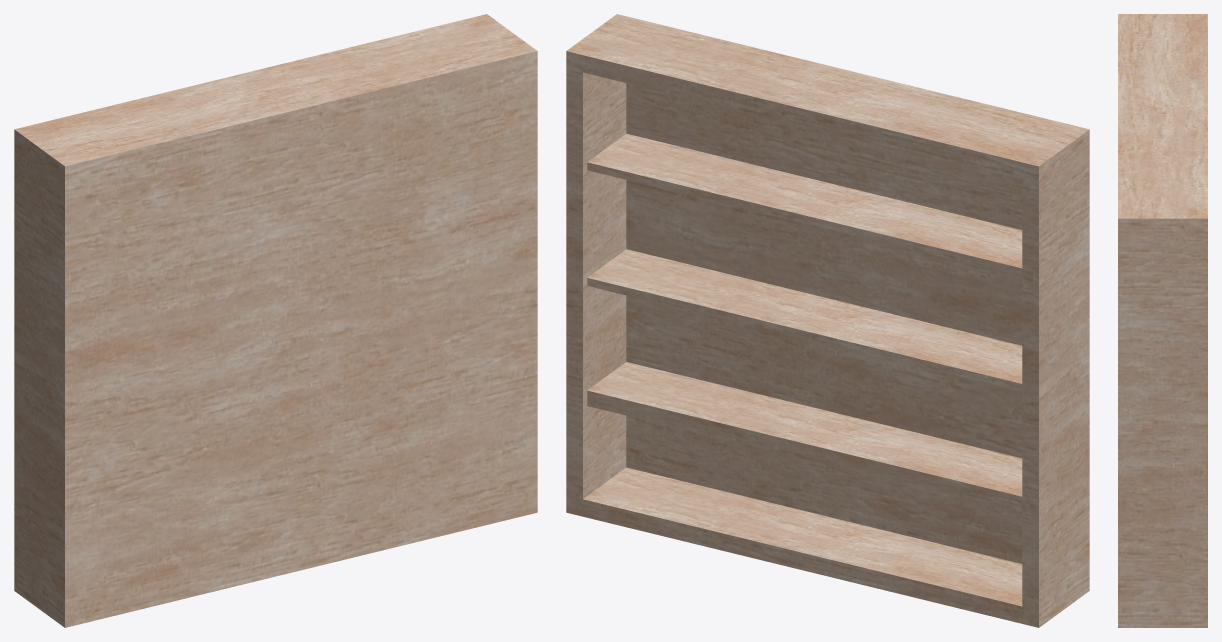
The model's file is Bathroom_cabinet.glb.
3 views of the same model, side by side, from view 1: azimuth 30°, elevation 25°; view 2: azimuth 150°, elevation 25°; view 3: azimuth 270°, elevation 25° (orthographic). The views are drawn at different scales.
Visible parts, largest first — view 1: Bathroom_cabinet; view 2: Bathroom_cabinet; view 3: Bathroom_cabinet.
Part boxes in pixels (x1,y1,x2,y2): Bathroom_cabinet: (14, 14, 537, 627); Bathroom_cabinet: (566, 14, 1089, 627); Bathroom_cabinet: (1118, 14, 1207, 627).
Bounding box in the file's own units: 0.7486 × 0.6985 × 0.139.
1 material, 1 textured.
